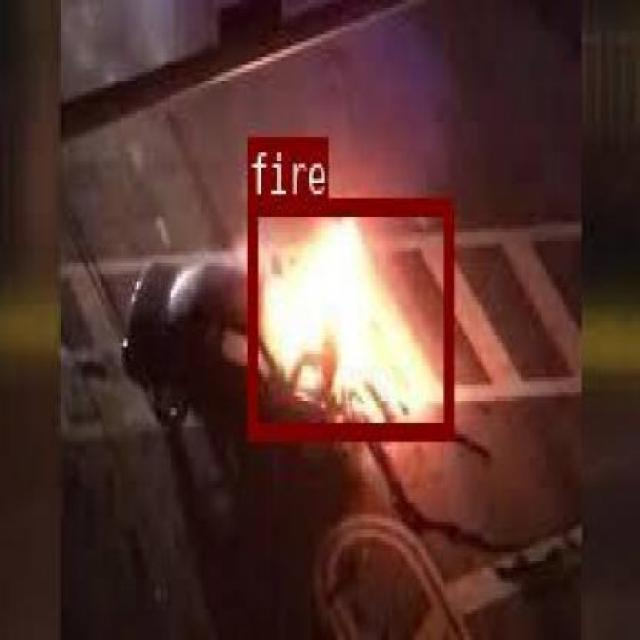Fire: (246, 196, 452, 438)
